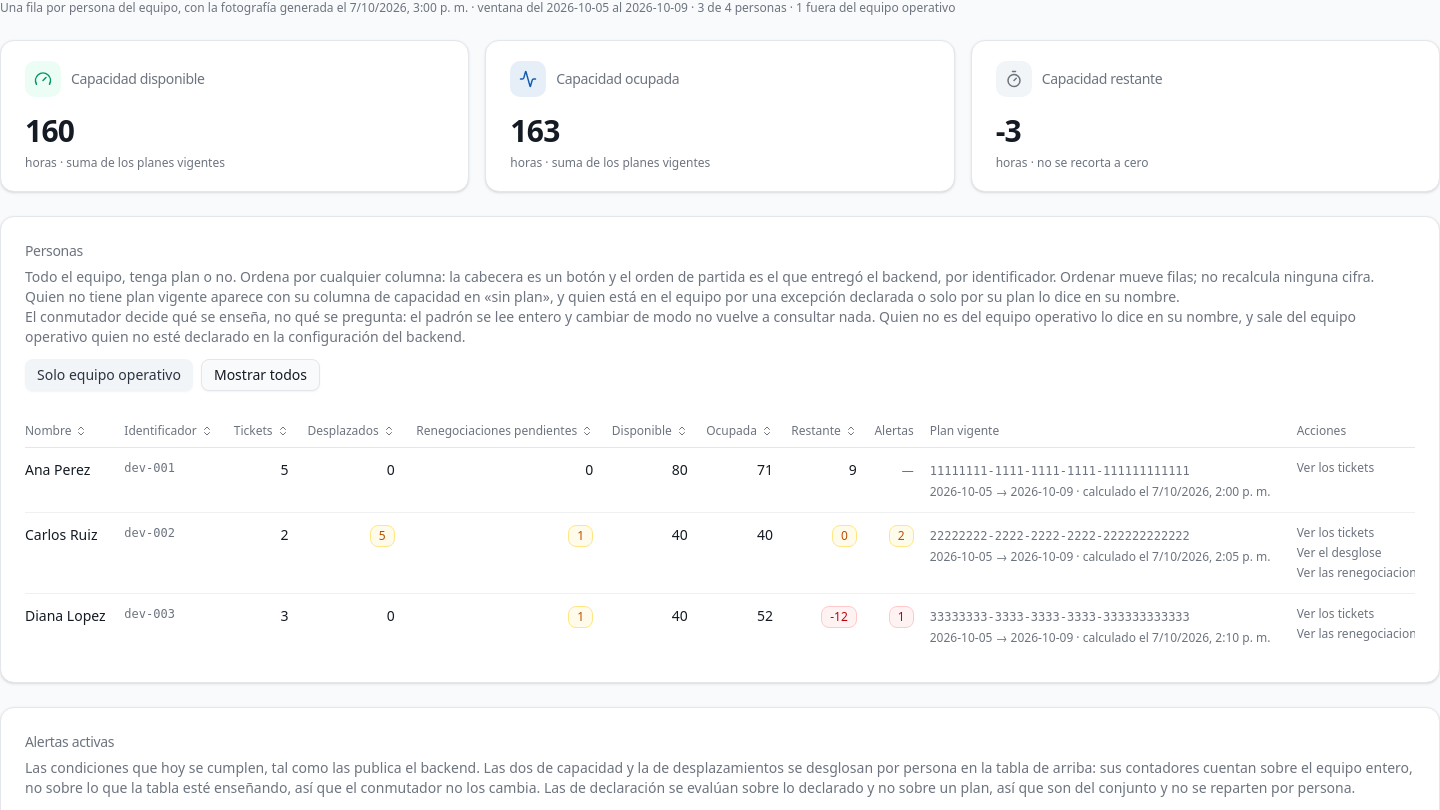
Resources · el equipo operativo › «Mostrar todos» devuelve el padron entero y marca a quien esta fuera
Check: the text "Personas" is shown, box [25,241,83,260]
Click the button "Mostrar todos" at (260, 375), box [201,359,320,391]
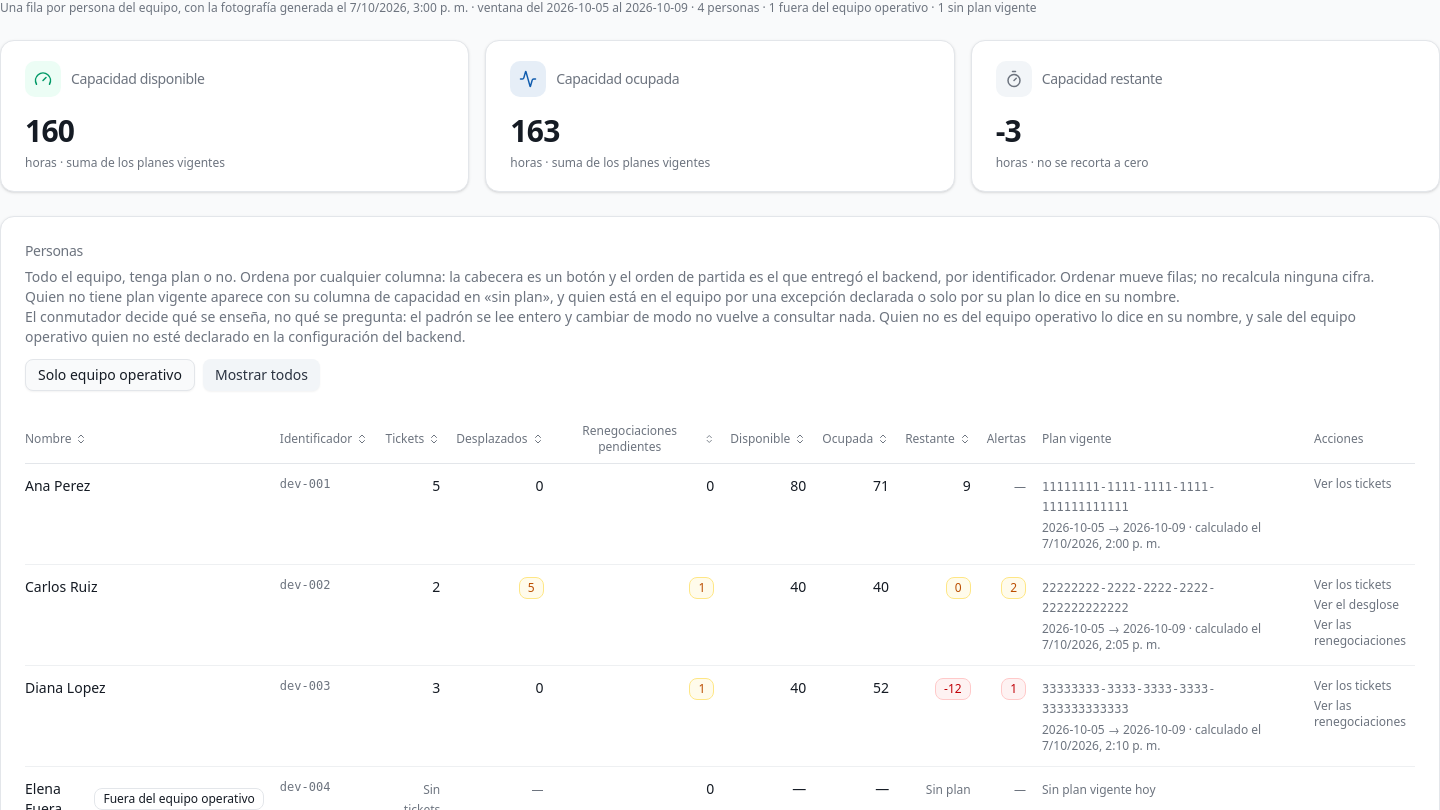
Check: the text "Fuera del equipo operativo" is shown, box [94,788,264,809]
